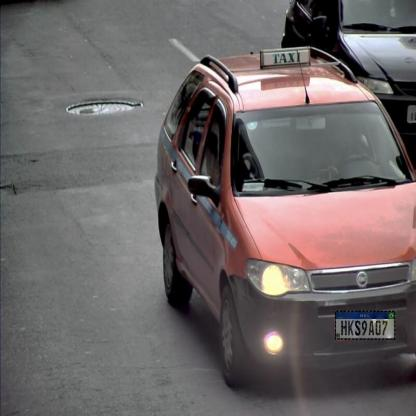PlacaM: (335, 310, 395, 340)
